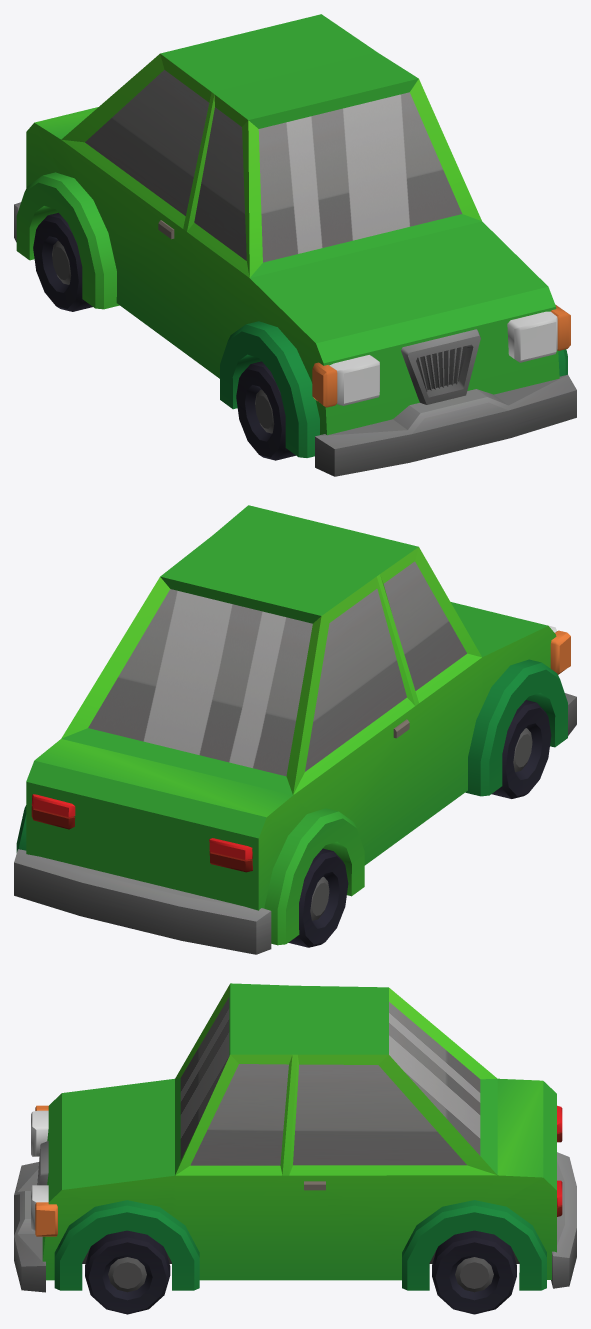
File: Car_4_4.glb
3 views of the same model, one above another, from view 1: azimuth 30°, elevation 25°; view 2: azimuth 150°, elevation 25°; view 3: azimuth 270°, elevation 25° (orthographic). The views are drawn at different scales.
Parts seen in each view (by area): view 1: Car_4_4, BWhel_FR, BWhel_BR; view 2: Car_4_4, BWhel_BR, BWhel_FR; view 3: Car_4_4, BWhel_FL, BWhel_BL.
Boxes of the visible parts, x1=… form: Car_4_4: x1=14, y1=14, x2=576, y2=476; BWhel_FR: x1=236, y1=361, x2=295, y2=460; BWhel_BR: x1=33, y1=212, x2=92, y2=311; Car_4_4: x1=14, y1=505, x2=576, y2=954; BWhel_BR: x1=288, y1=848, x2=348, y2=947; BWhel_FR: x1=491, y1=700, x2=551, y2=798; Car_4_4: x1=14, y1=983, x2=576, y2=1292; BWhel_FL: x1=85, y1=1230, x2=170, y2=1314; BWhel_BL: x1=432, y1=1230, x2=516, y2=1314.
Bounding box in the file's own units: 1.09 × 1.09 × 2.3.
6 materials, 6 textured.
